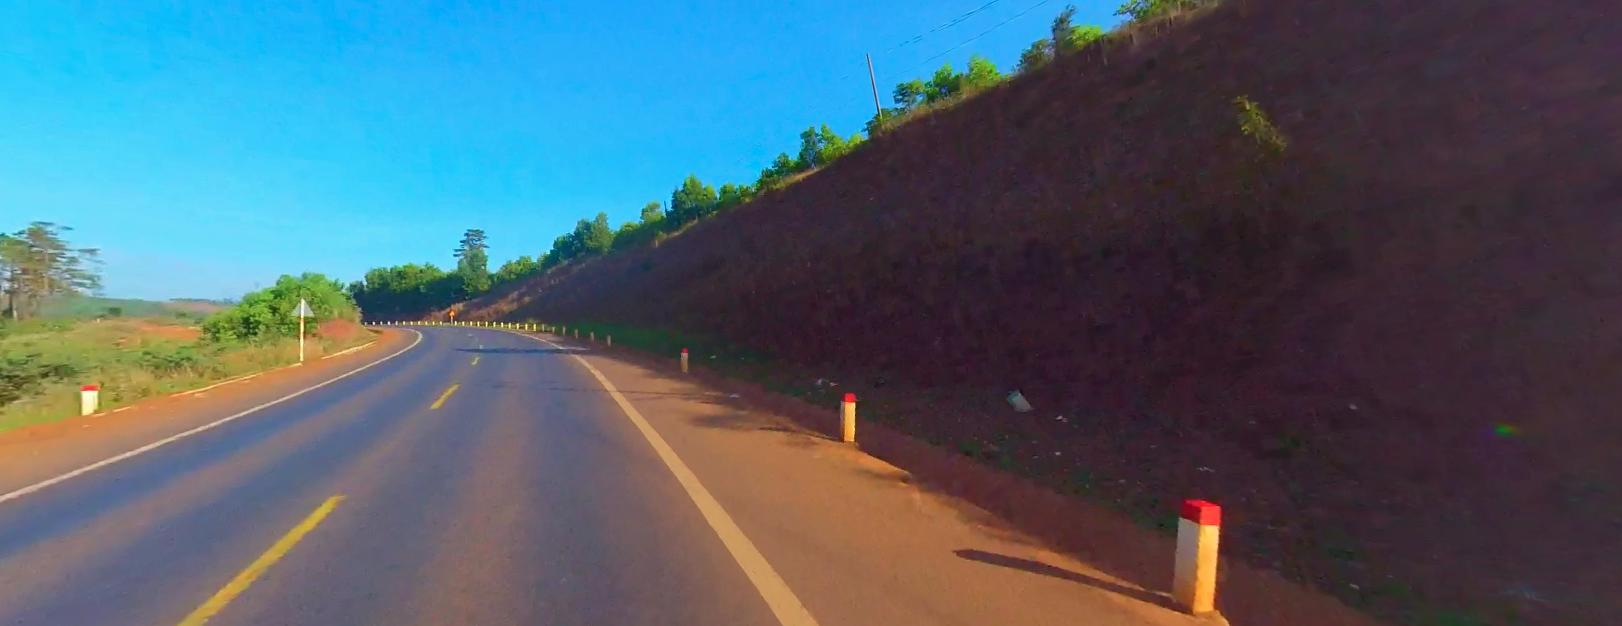Nguy hiem: (448, 308, 455, 314)
